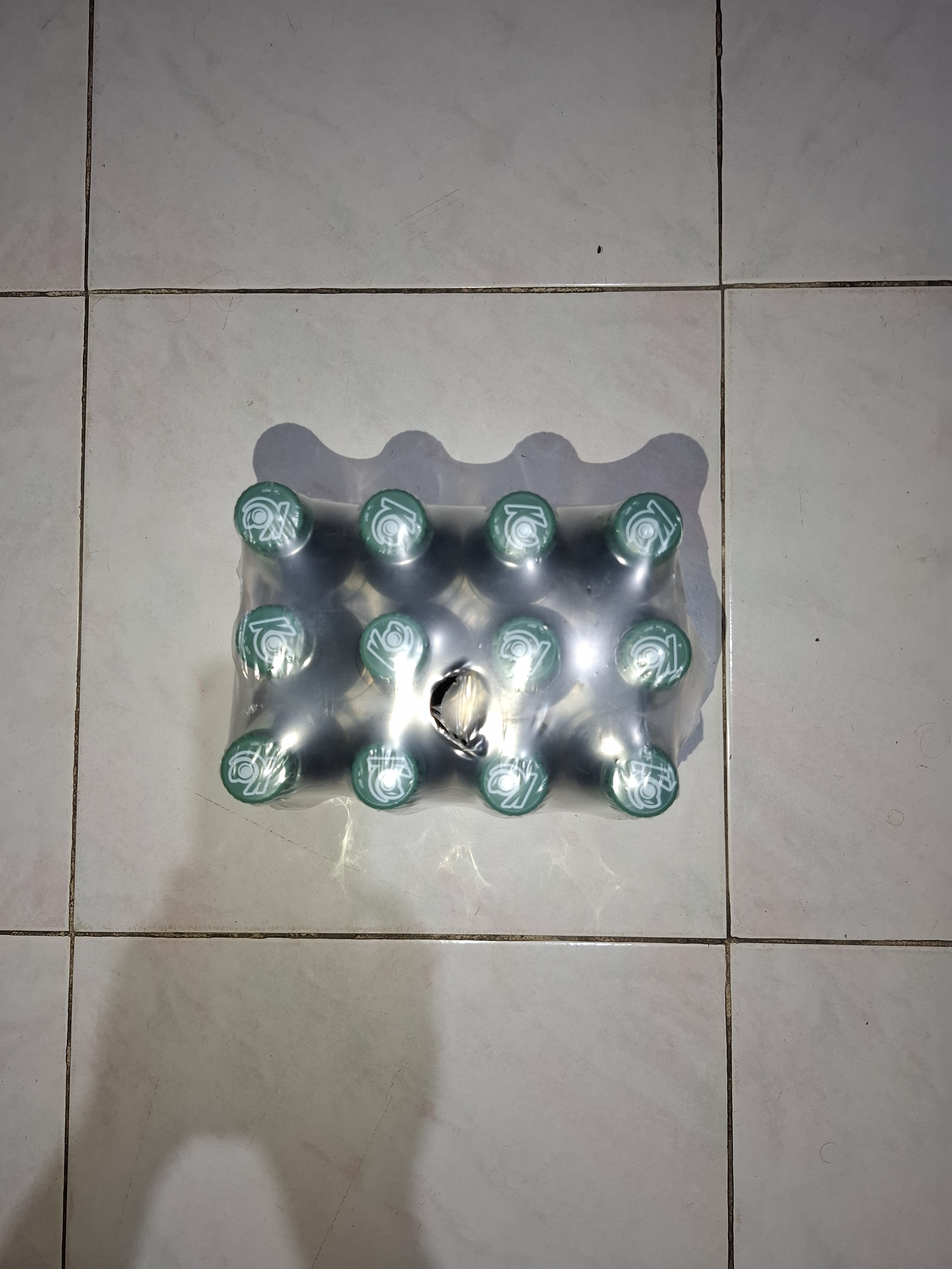Tampa Refrigerante Kuat: (614, 611, 695, 697), (229, 471, 311, 555), (218, 725, 300, 807), (605, 739, 684, 821), (613, 481, 683, 572), (238, 599, 313, 681), (493, 479, 563, 566), (488, 611, 565, 690), (358, 608, 434, 686), (356, 482, 431, 561), (348, 731, 420, 812), (479, 742, 554, 816)
